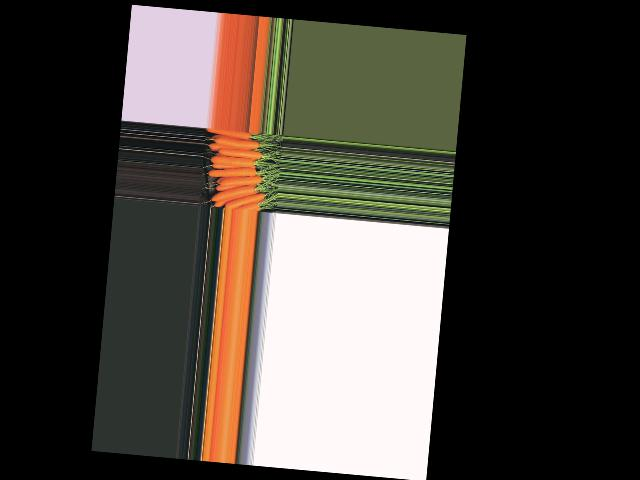carrot: (221, 193, 264, 206)
